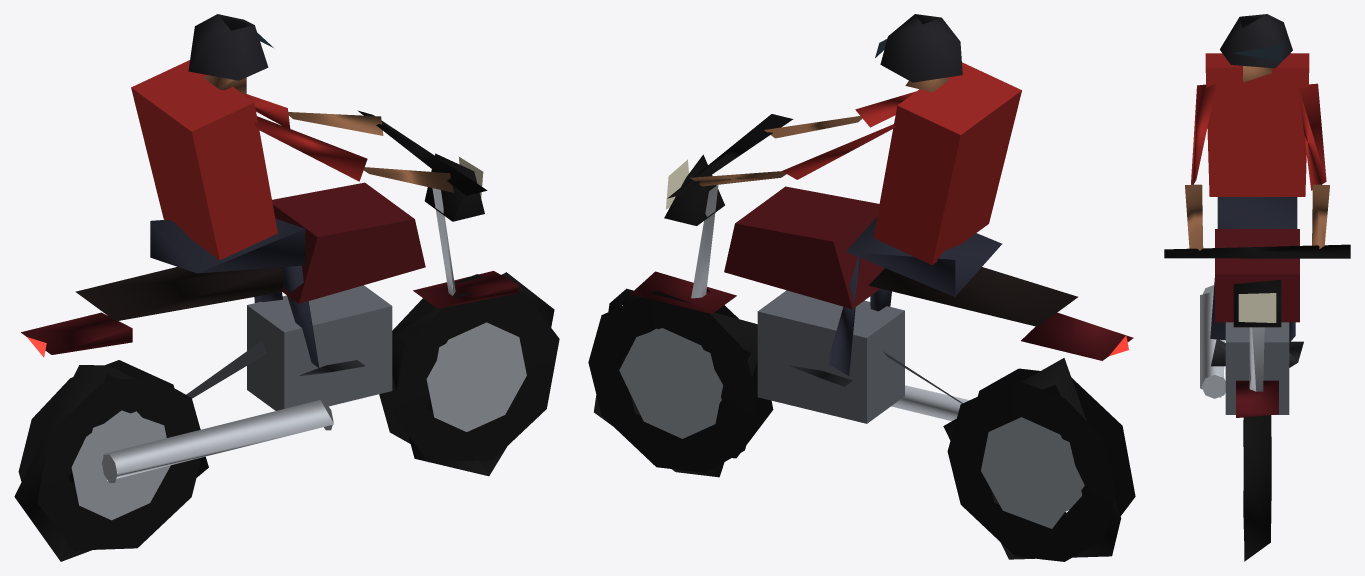
File: motorcycle_lod1.glb
The picture shows the model from 3 angles, left to right: view 1: azimuth 30°, elevation 25°; view 2: azimuth 150°, elevation 25°; view 3: azimuth 270°, elevation 25°; orthographic projection. The views are drawn at different scales.
Visible parts, largest first — view 1: motorcycle_body, wheel_r.001, wheel_f.001; view 2: motorcycle_body, wheel_r.001, wheel_f.001; view 3: motorcycle_body, wheel_f.001.
Part boxes in pixels (x1,y1,x2,y2): motorcycle_body: [21, 14, 518, 482]; wheel_r.001: [14, 360, 208, 561]; wheel_f.001: [379, 272, 559, 476]; motorcycle_body: [630, 14, 1133, 423]; wheel_r.001: [943, 358, 1135, 561]; wheel_f.001: [588, 286, 773, 477]; motorcycle_body: [1164, 14, 1350, 417]; wheel_f.001: [1243, 415, 1271, 561].
Bounding box in the file's own units: 1.96 × 1.82 × 0.7.
2 materials, 1 textured.
